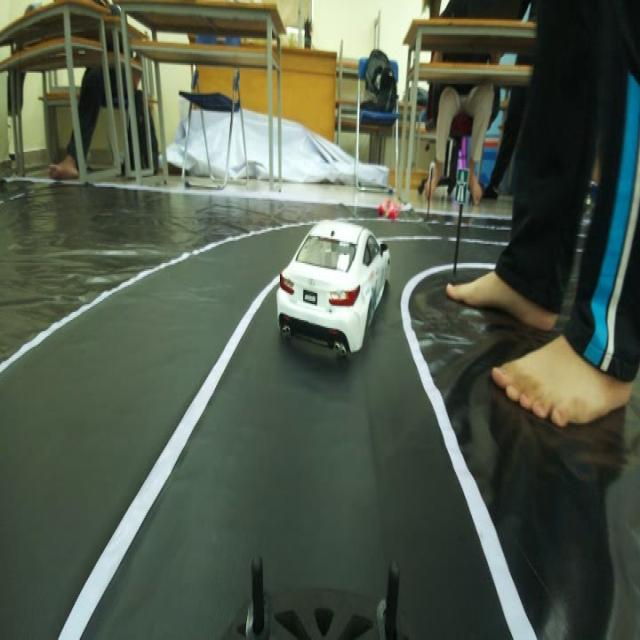car: (291, 200, 385, 381)
highway_entry: (453, 162, 469, 212)
